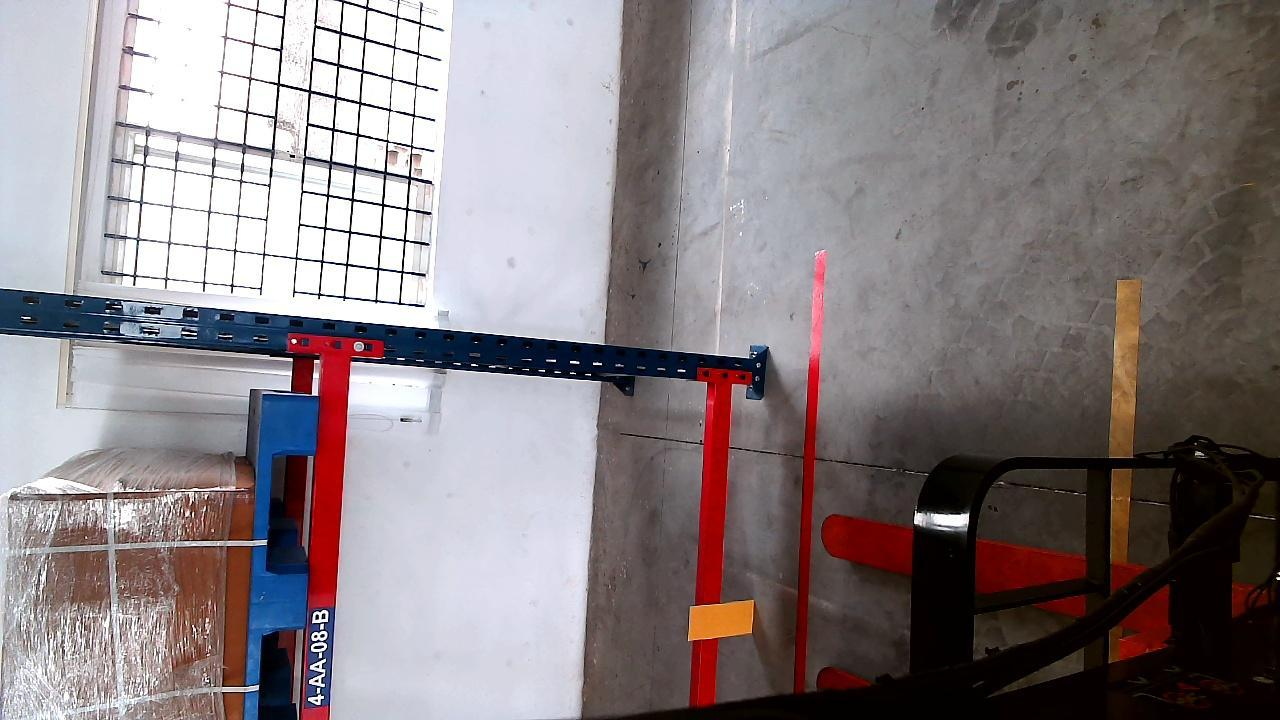red_line: (794, 245, 825, 692)
yellow_line: (1109, 278, 1139, 555)
